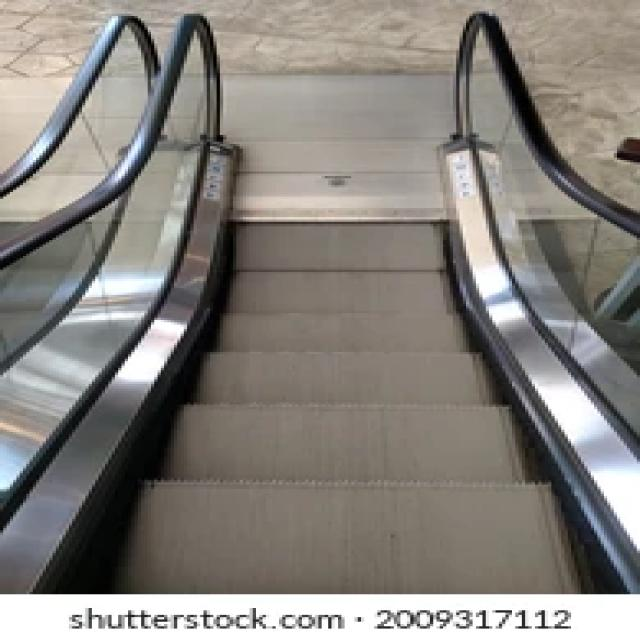escalator: (0, 0, 637, 595)
